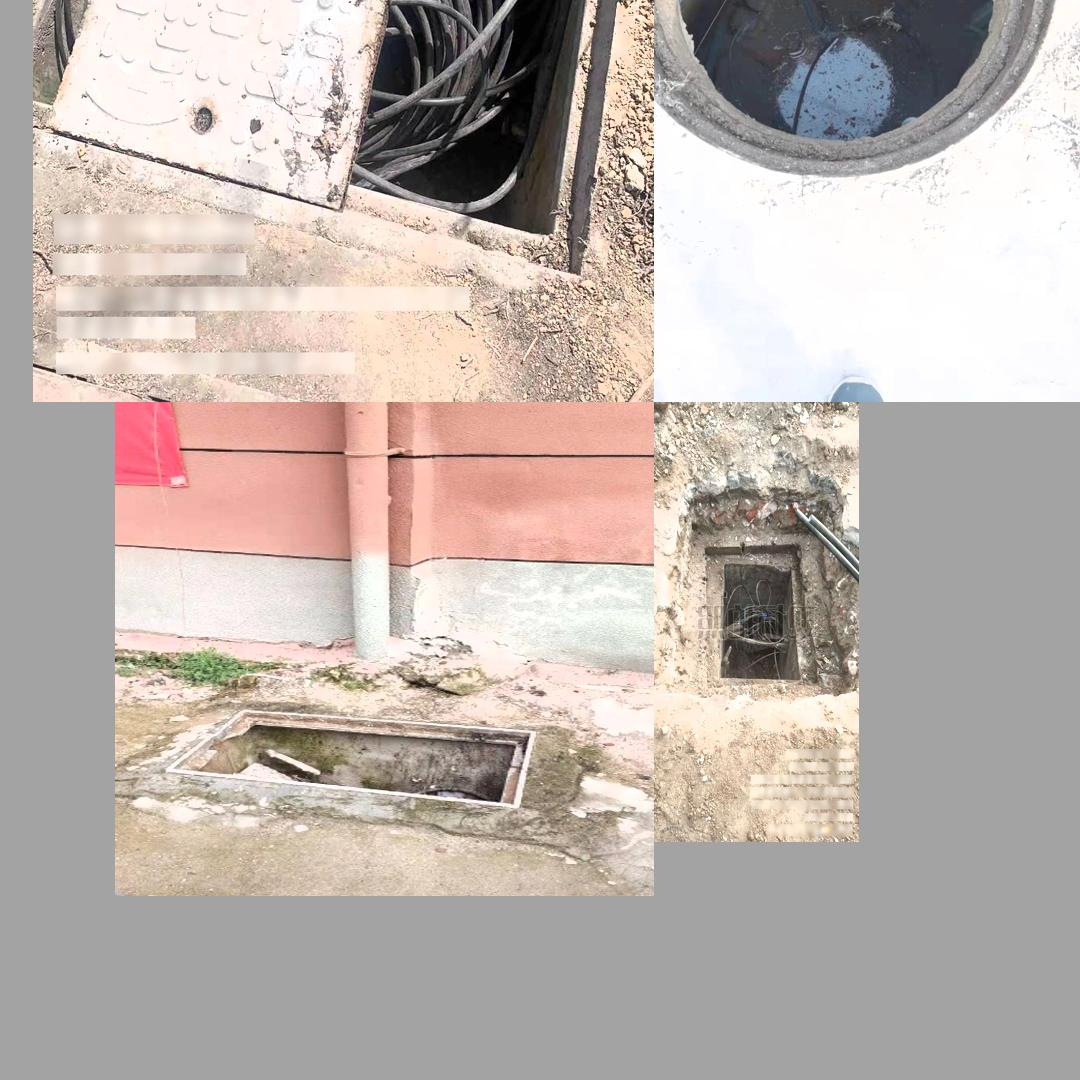lose: (40, 0, 639, 282), (662, 0, 1053, 238), (167, 709, 538, 807), (718, 549, 801, 681)
